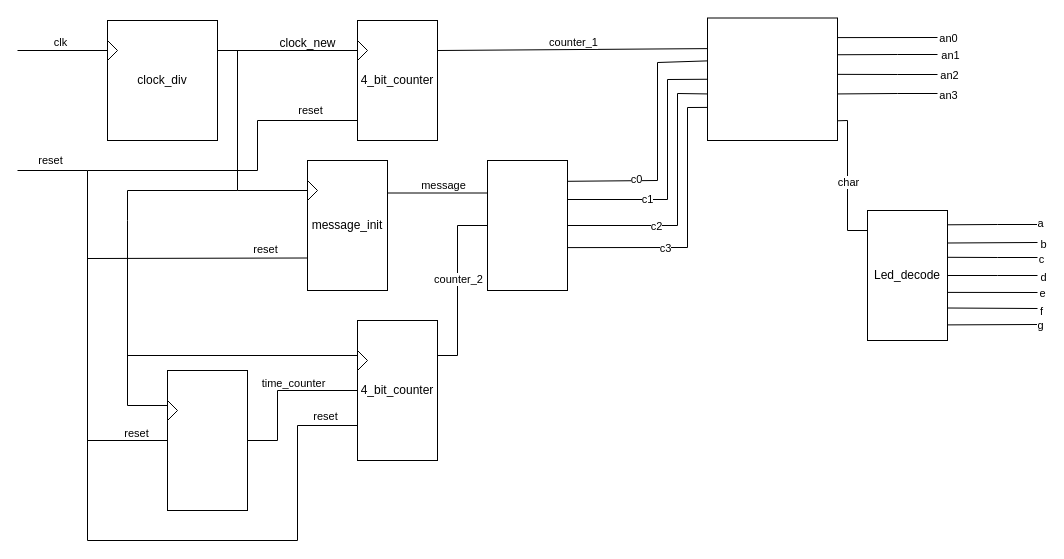
Image size: 1064x559. Some labels were removed from this diagram. The centre of each missing label's shape, as x and y in pixels:
"Anode_driver" belongs at (772,78).
"delay" belongs at (207,440).
"Text_scroll" belongs at (527,225).
